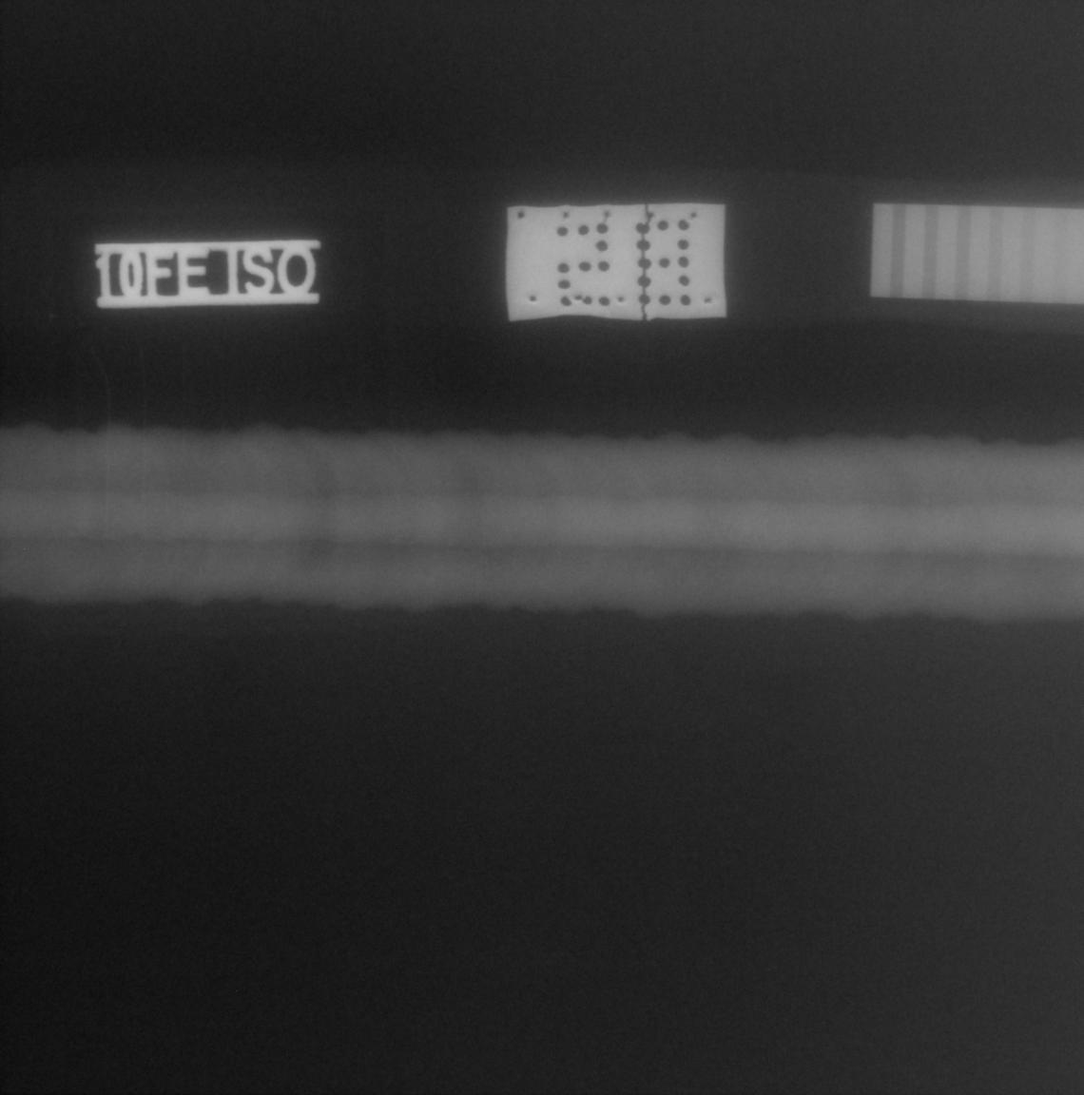Pore/Porosity: (923, 589, 928, 596)
